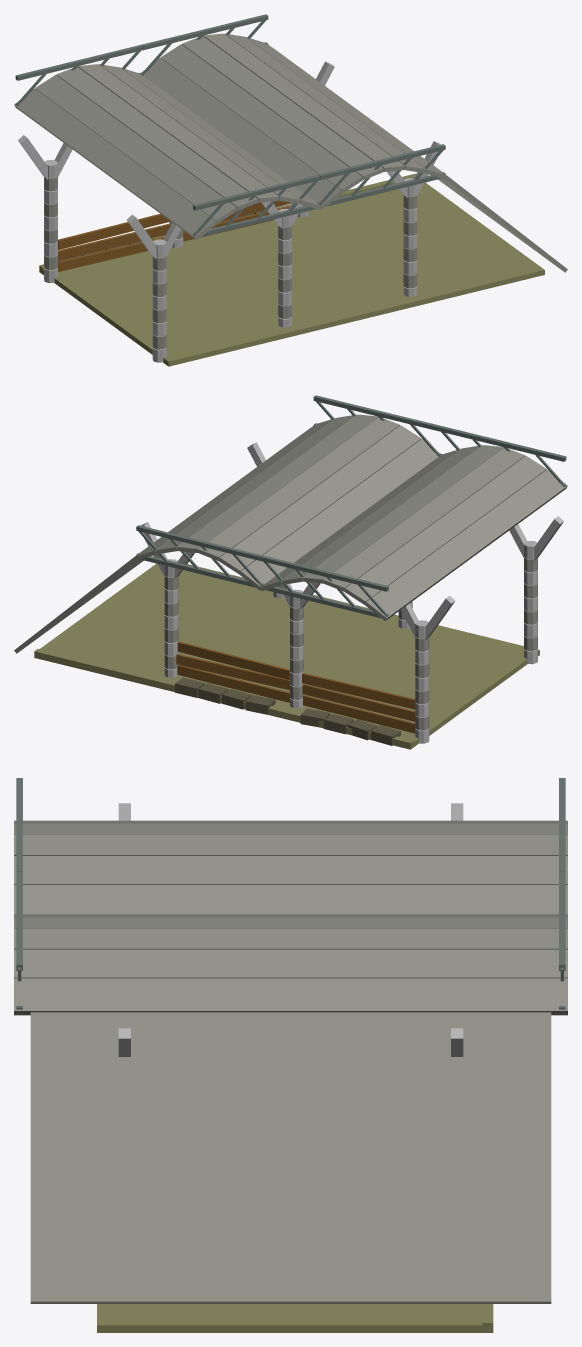
The model's file is SM_MarquesinaBus_v2_Barricada_e1_Danado_LOD0.fbx.
3 views of the same model, one above another, from view 1: azimuth 30°, elevation 25°; view 2: azimuth 150°, elevation 25°; view 3: azimuth 270°, elevation 25° (orthographic). The views are drawn at different scales.
Parts seen in each view (by area): view 1: SM_marquesina_bus_v9_LOD0; view 2: SM_marquesina_bus_v9_LOD0; view 3: SM_marquesina_bus_v9_LOD0.
Part boxes in pixels (<box>): SM_marquesina_bus_v9_LOD0: <box>14,14,567,366</box>; SM_marquesina_bus_v9_LOD0: <box>14,395,567,749</box>; SM_marquesina_bus_v9_LOD0: <box>14,778,567,1332</box>.
Size of the model in its own units: 13.03 by 5.46 by 10.
